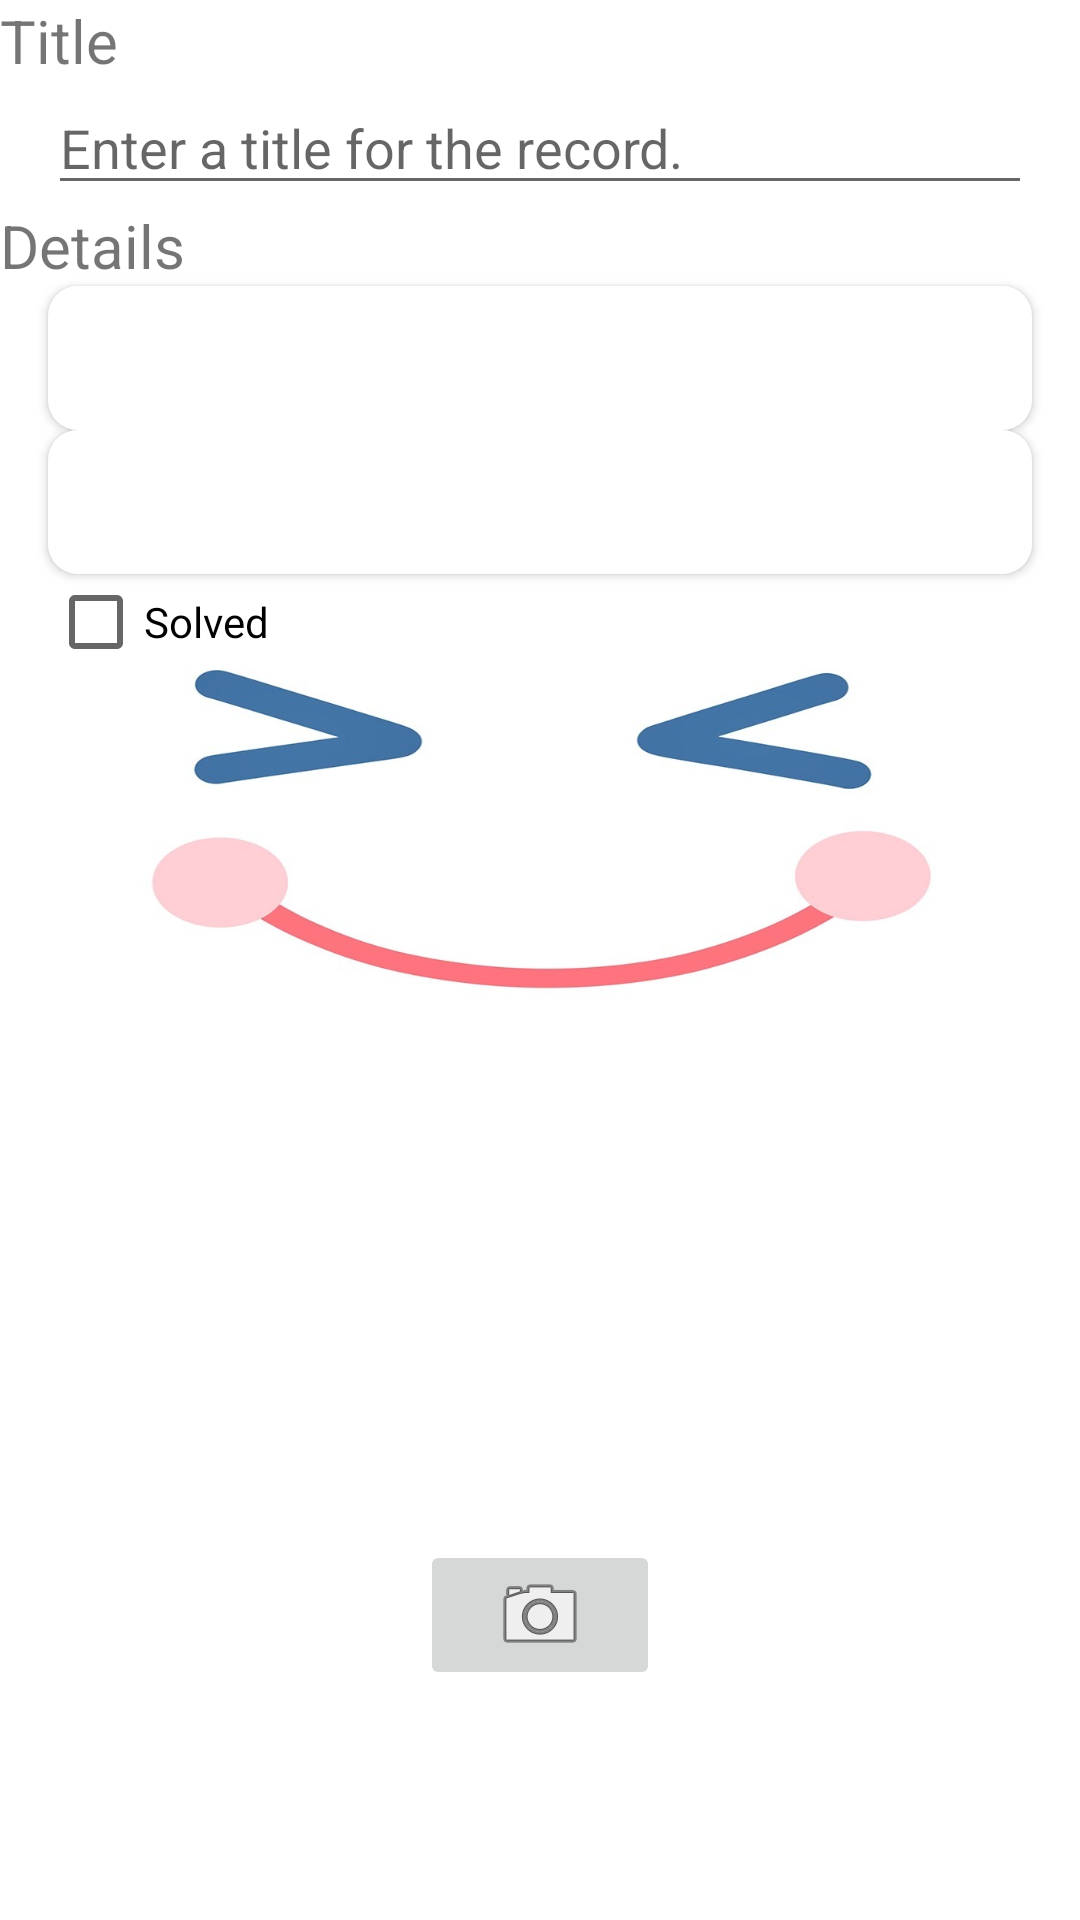

Screen size 1080 x 1920. Icon name, then its box in pixels as (x1, y1, x2, y2):
camera: (432, 1558, 648, 1672)
